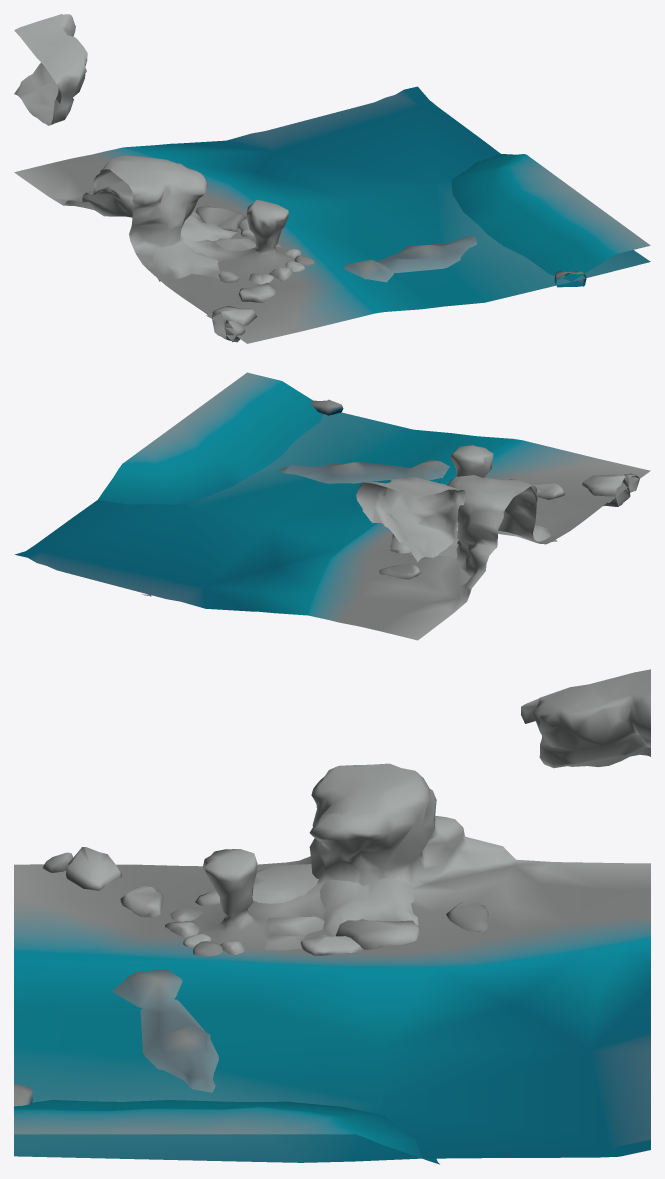
3 renders of one model, top to bottom at view 1: azimuth 30°, elevation 25°; view 2: azimuth 150°, elevation 25°; view 3: azimuth 270°, elevation 25°, orthographic. The views are drawn at different scales.
Parts seen in each view (by area): view 1: G:\FFXIV-MapTools\exports\s1f3\bg\ffxiv\sea_s1\fld\s1f3\bgpl (×14); view 2: G:\FFXIV-MapTools\exports\s1f3\bg\ffxiv\sea_s1\fld\s1f3\bgpl (×15); view 3: G:\FFXIV-MapTools\exports\s1f3\bg\ffxiv\sea_s1\fld\s1f3\bgpl (×17).
Boxes of the visible parts, <box> form: G:\FFXIV-MapTools\exports\s1f3\bg\ffxiv\sea_s1\fld\s1f3\bgpl (×14): <box>14,14,650,343</box>; G:\FFXIV-MapTools\exports\s1f3\bg\ffxiv\sea_s1\fld\s1f3\bgpl (×15): <box>26,372,650,640</box>; G:\FFXIV-MapTools\exports\s1f3\bg\ffxiv\sea_s1\fld\s1f3\bgpl (×17): <box>14,671,650,1164</box>.
Bounding box in the file's own units: 128 × 52.23 × 128.
